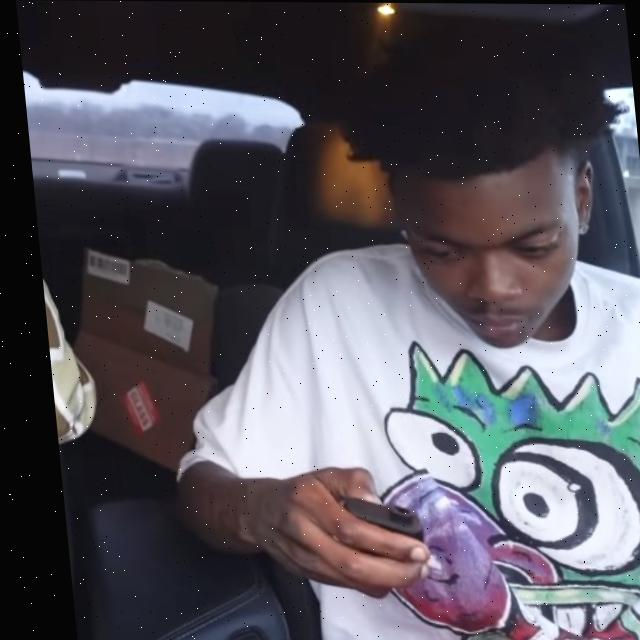vape: (326, 495, 414, 539)
